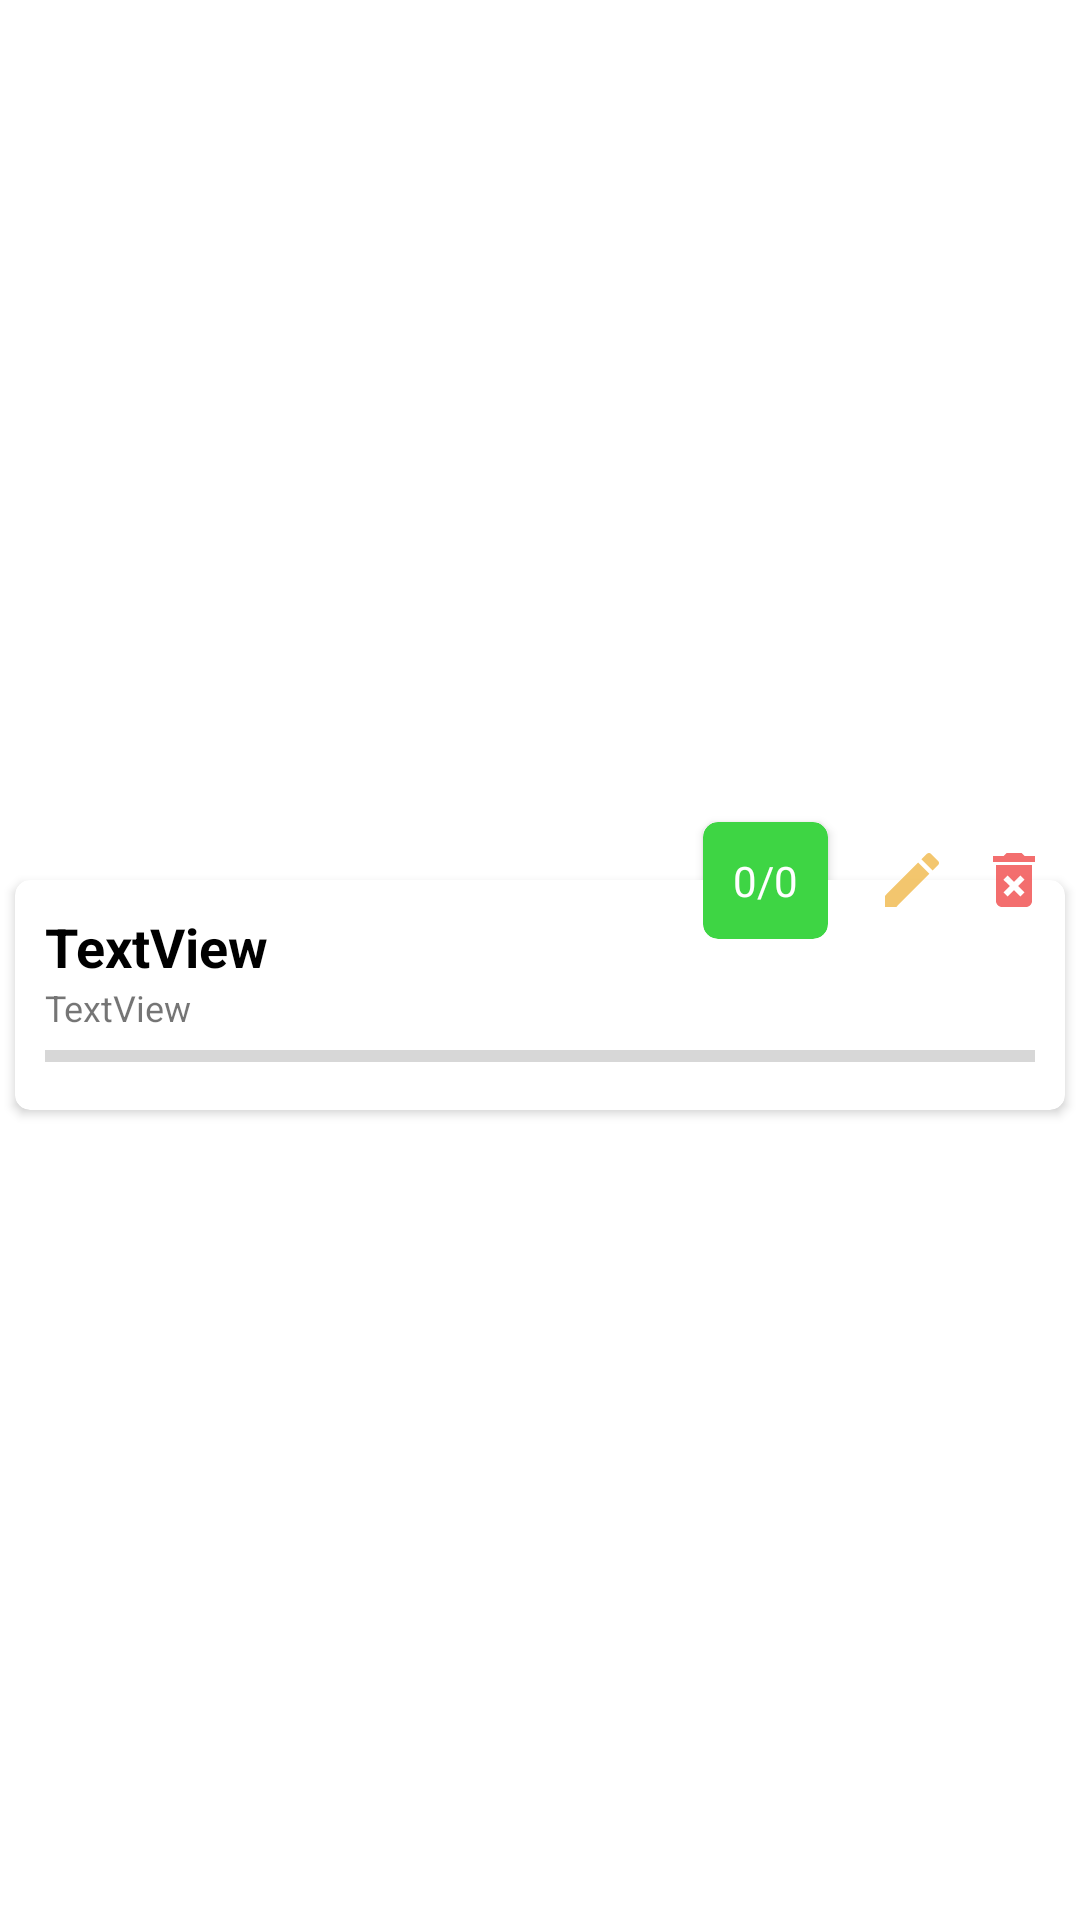

Where icons sit on this 1080w x 1920h app screen, as box(x1, y1, x2, y2):
delete list: box(993, 853, 1035, 907)
edit list: box(885, 853, 939, 907)
